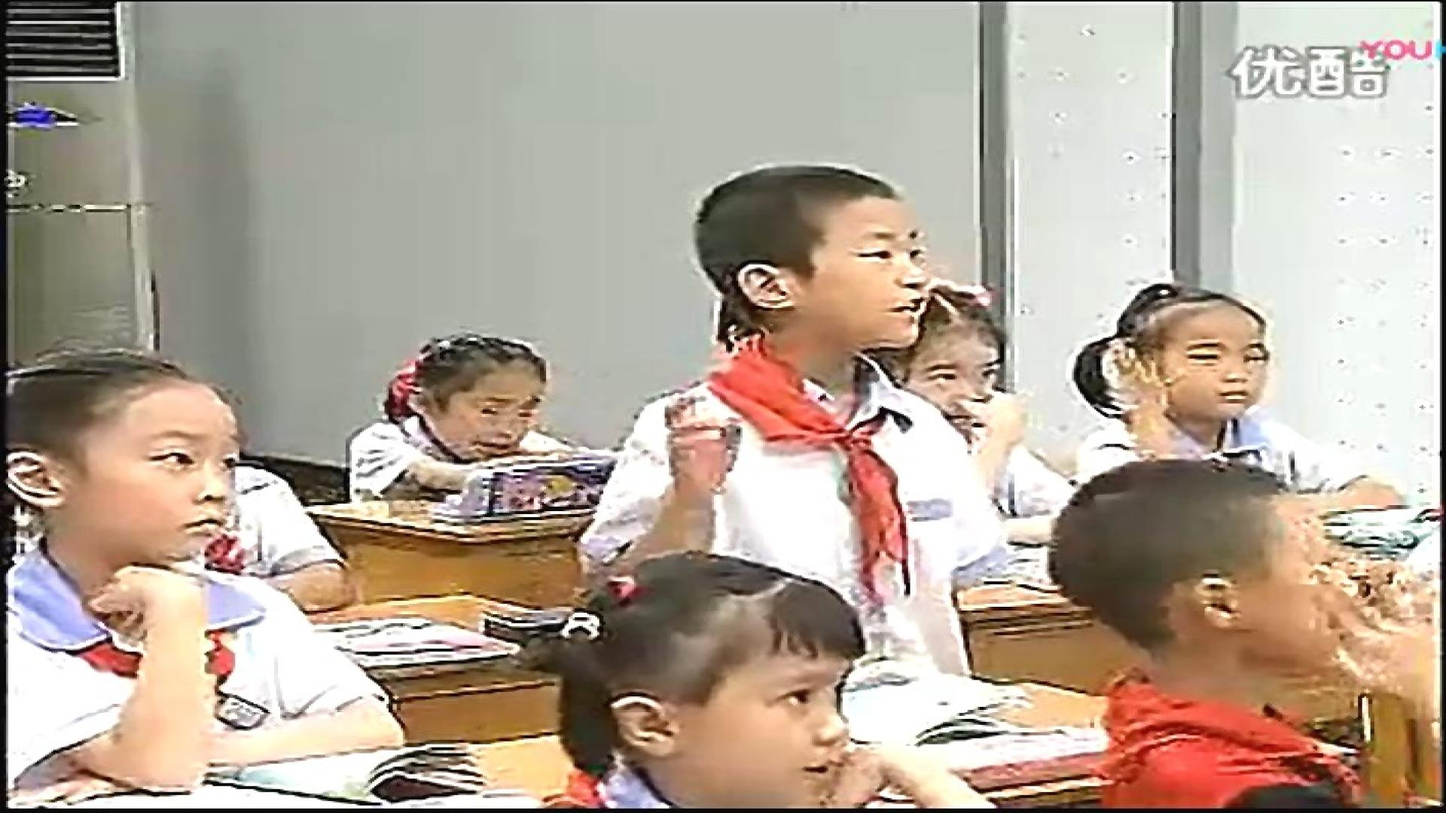Bend Over The Desk: (382, 331, 583, 507)
Stand Up: (646, 150, 972, 670)
Wave: (1319, 566, 1415, 715), (656, 413, 735, 553), (1092, 344, 1171, 445)
